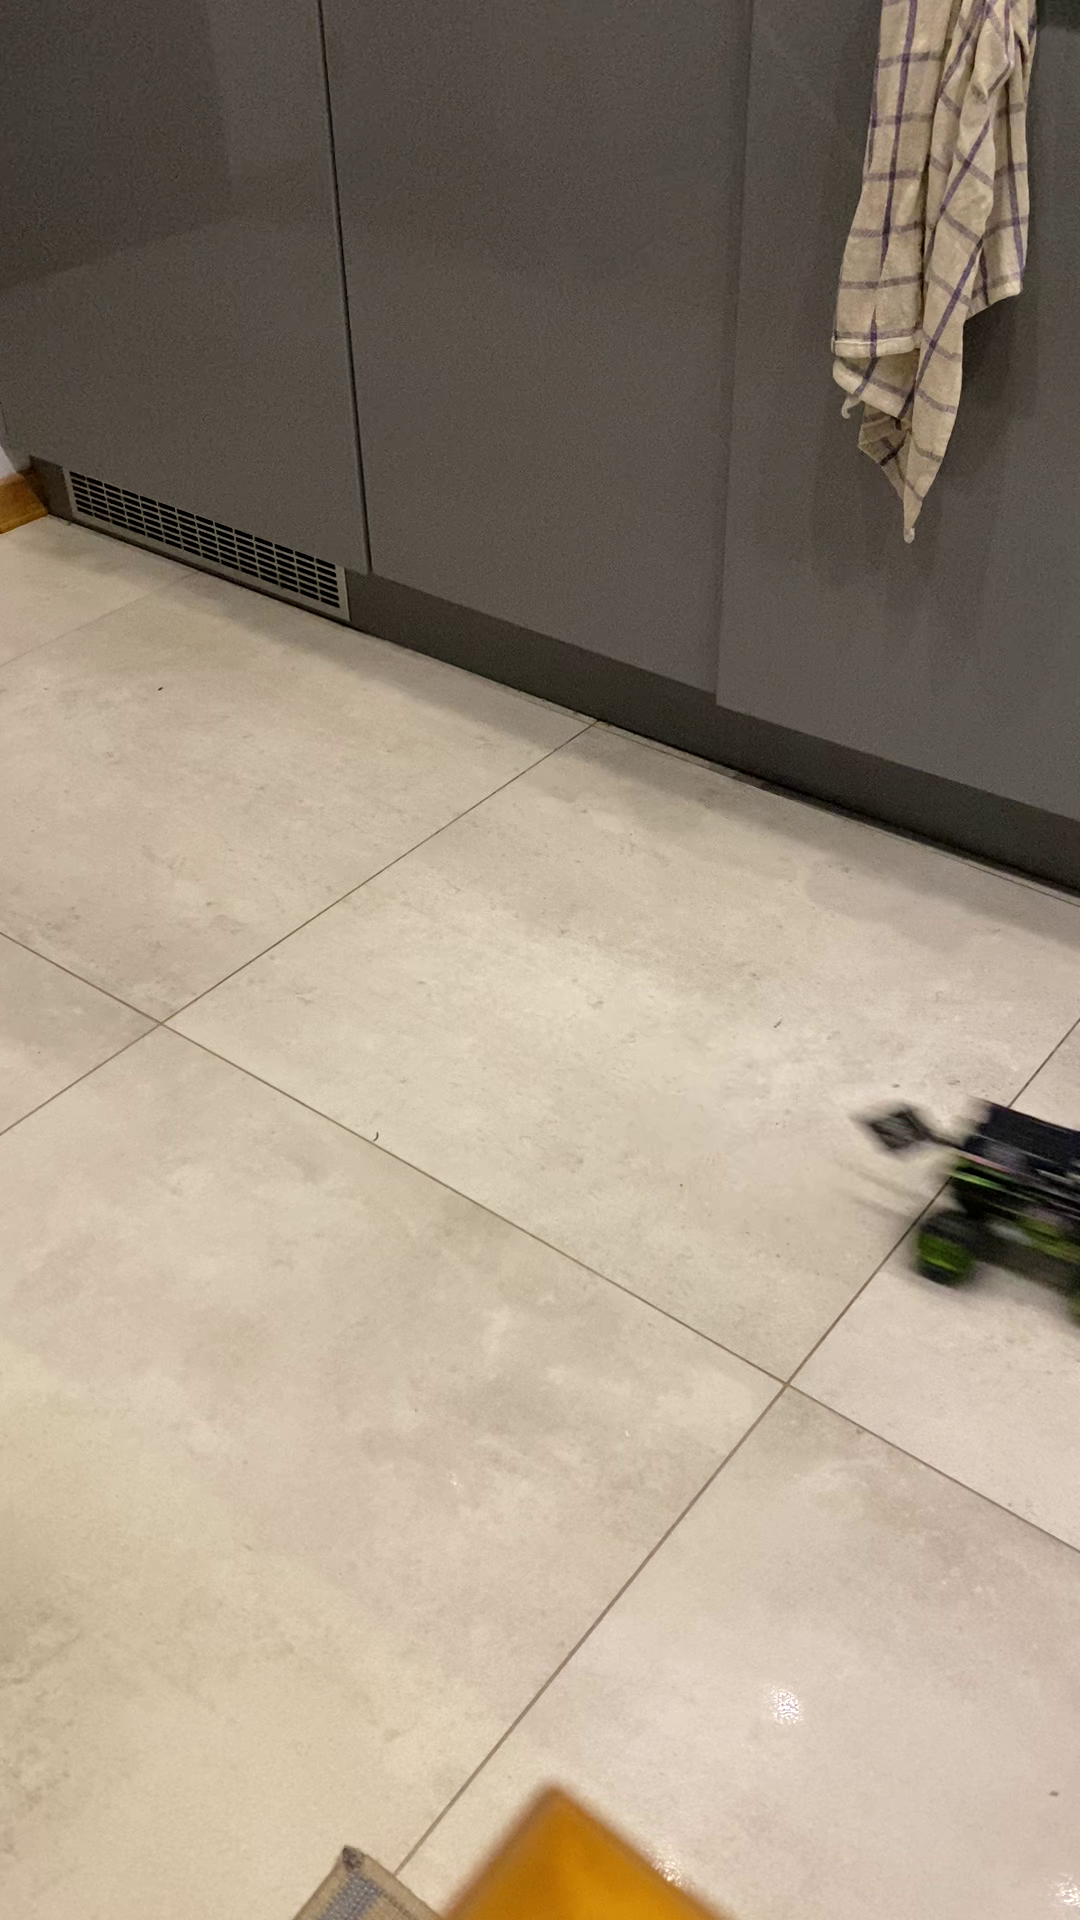car: (889, 1095, 1080, 1304)
